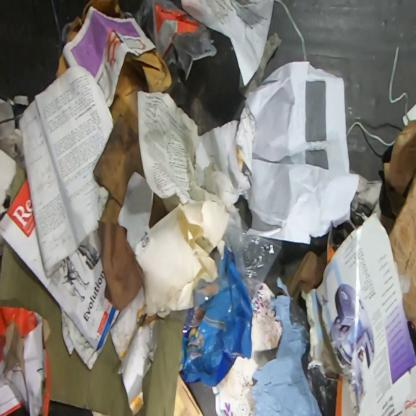cardboard: (0, 240, 188, 415), (92, 113, 145, 312), (384, 121, 415, 332), (109, 47, 172, 144), (0, 304, 51, 416), (65, 0, 121, 46), (54, 51, 70, 80)
rigid_plastic: (125, 1, 218, 104), (50, 0, 72, 56)
soft_plastic: (252, 280, 338, 414), (179, 245, 252, 388), (223, 223, 283, 301)
